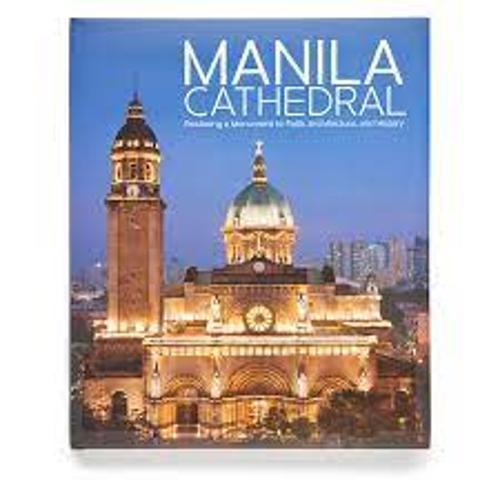Manila Cathedral Church: (83, 78, 391, 428)
